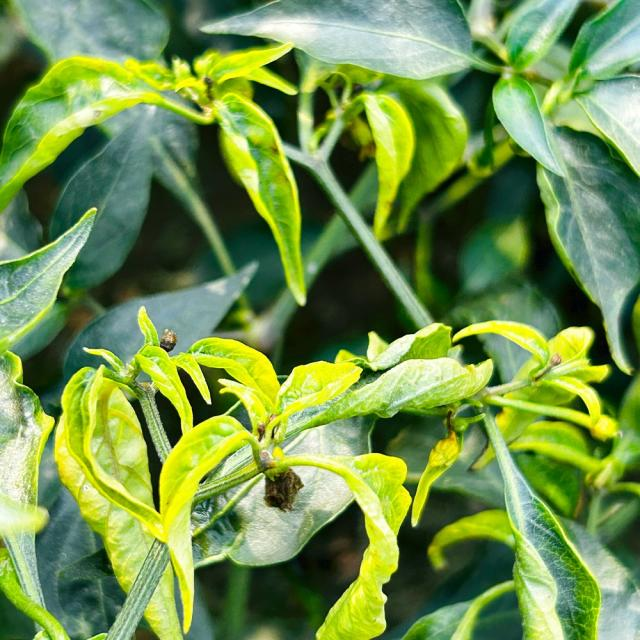Chilli_Leaf_Curl: (1, 1, 638, 638), (52, 306, 494, 638), (0, 42, 308, 306), (476, 403, 602, 638), (196, 0, 475, 81), (212, 91, 308, 306), (269, 354, 493, 443)
